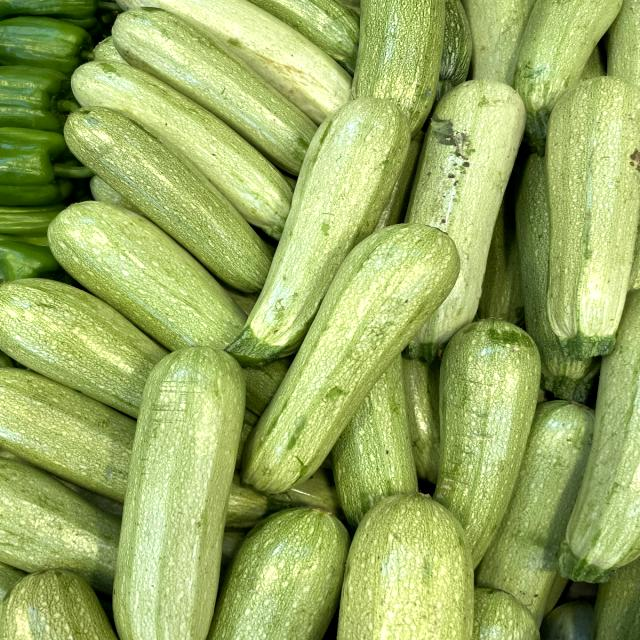zucchini: (101, 336, 255, 640), (518, 67, 640, 402)
